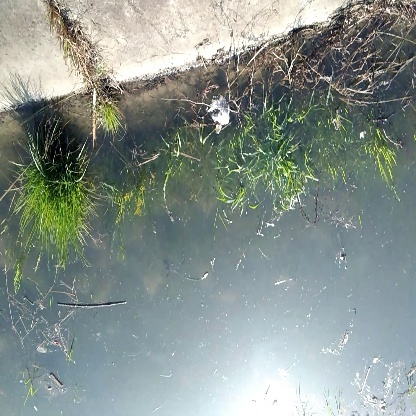branch: (56, 294, 134, 313)
